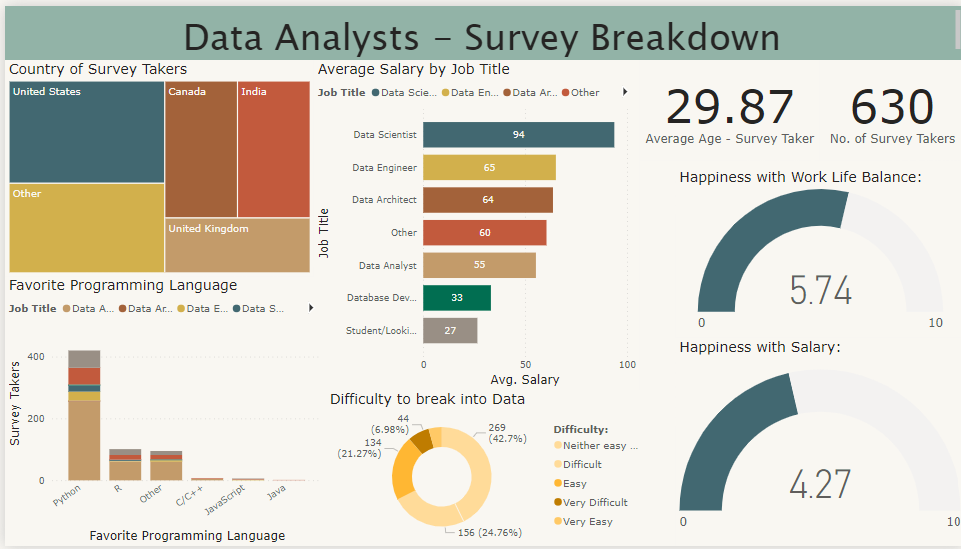

The page's visual inventory and layout, read from the dashboard file:
{"tool":"powerbi","page":{"name":"Page 1","canvas":[1280,720],"ordinal":0},"visuals":[{"type":"textbox","box":[0,0,1280,72],"z":0},{"type":"card","fields":{"Values":["Count(Data Professional Survey.Unique ID)"]},"box":[1086,72,194,134],"z":1000},{"type":"card","fields":{"Values":["Avg(Data Professional Survey.Q10 - Current Age)"]},"box":[846,72,240,134],"z":2000},{"type":"barChart","title":"Average Salary by Job Title","fields":{"Category":["Data Professional Survey.Q1 - Which Title Best Fits your Current Role?.1"],"Y":["Avg(Data Professional Survey.Average Salary)"],"Series":["Data Professional Survey.Q1 - Which Title Best Fits your Current Role?.1"]},"box":[412,72,434,440],"z":3000},{"type":"columnChart","title":"Favorite Programming Language","fields":{"Category":["Data Professional Survey.Q5 - Favorite Programming Language.1"],"Y":["CountNonNull(Data Professional Survey.Unique ID)"],"Series":["Data Professional Survey.Q1 - Which Title Best Fits your Current Role?.1"]},"box":[0,360.5,427.9,360.5],"z":3001},{"type":"treemap","title":"Country of Survey Takers","fields":{"Values":["Count(Data Professional Survey.Average Salary)"],"Group":["Data Professional Survey.Q11 - Which Country do you live in?.1"]},"box":[0,72.1,411.6,288.4],"z":3002},{"type":"gauge","title":"Happiness with Work Life Balance:","fields":{"Y":["Avg(Data Professional Survey.Q6 - How Happy are you in your Current Position with the following? (Work/Life Balance))"],"MinValue":["Min(Data Professional Survey.Q6 - How Happy are you in your Current Position with the following? (Work/Life Balance))"],"MaxValue":["Max(Data Professional Survey.Q6 - How Happy are you in your Current Position with the following? (Work/Life Balance))1"]},"box":[893,216.3,386,225.6],"z":3003},{"type":"gauge","title":"Happiness with Salary:","fields":{"Y":["Avg(Data Professional Survey.Q6 - How Happy are you in your Current Position with the following? (Salary))"],"MinValue":["Min(Data Professional Survey.Q6 - How Happy are you in your Current Position with the following? (Salary))"],"MaxValue":["Max(Data Professional Survey.Q6 - How Happy are you in your Current Position with the following? (Salary))"]},"box":[893,441.9,386,279.1],"z":3004},{"type":"donutChart","title":"Difficulty to break into Data","fields":{"Category":["Data Professional Survey.Q7 - How difficult was it for you to break into Data?"],"Y":["CountNonNull(Data Professional Survey.Q7 - How difficult was it for you to break into Data?)"]},"box":[428,512,436,208],"z":3005}]}

Visuals, with their boxes in screenshot pixels (x1, y1, x2, y2), scaled from the page's 1280x720 canvas onto the 961x549 screenshot:
textbox: BBox(0, 0, 960, 55)
card - Count(Data Professional Survey.Unique ID): BBox(815, 55, 960, 157)
card - Avg(Data Professional Survey.Q10 - Current Age): BBox(635, 55, 815, 157)
"Average Salary by Job Title" barChart: BBox(309, 55, 635, 390)
"Favorite Programming Language" columnChart: BBox(0, 275, 321, 548)
"Country of Survey Takers" treemap: BBox(0, 55, 309, 275)
"Happiness with Work Life Balance:" gauge: BBox(670, 165, 960, 337)
"Happiness with Salary:" gauge: BBox(670, 337, 960, 548)
"Difficulty to break into Data" donutChart: BBox(321, 390, 649, 548)
